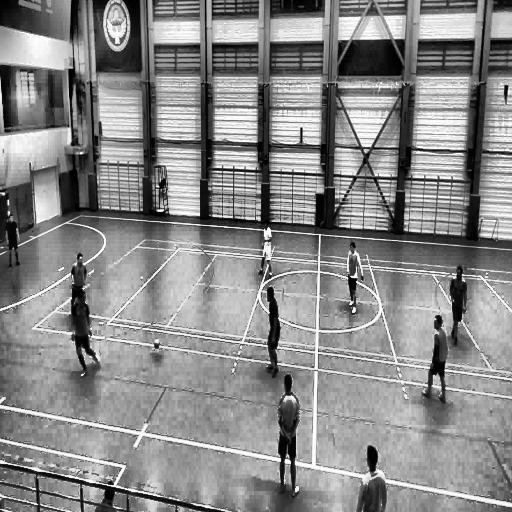ball: (154, 337, 161, 350)
player: (277, 374, 300, 498), (423, 314, 449, 405), (76, 290, 102, 380), (354, 444, 387, 512), (450, 265, 468, 345), (266, 285, 280, 377), (347, 240, 364, 314), (258, 221, 273, 279), (5, 213, 21, 266), (72, 262, 86, 288)
